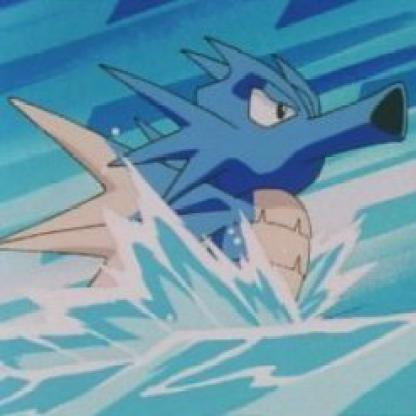Seadra: (17, 33, 413, 333)
